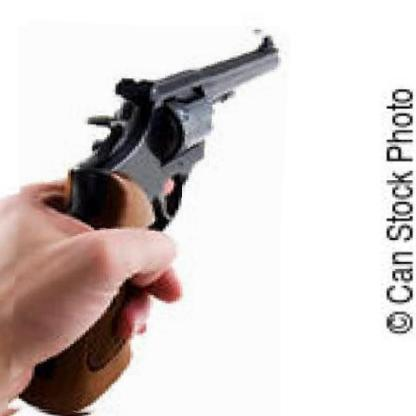handgun: (13, 23, 286, 416)
